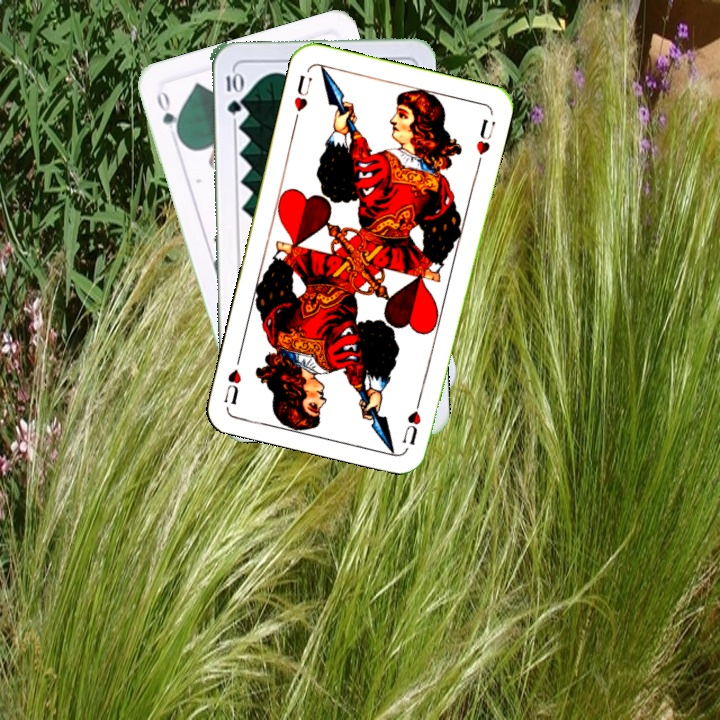G10: (222, 67, 243, 117)
GO: (152, 86, 183, 142)
HU: (398, 391, 424, 448), (290, 71, 315, 125)
